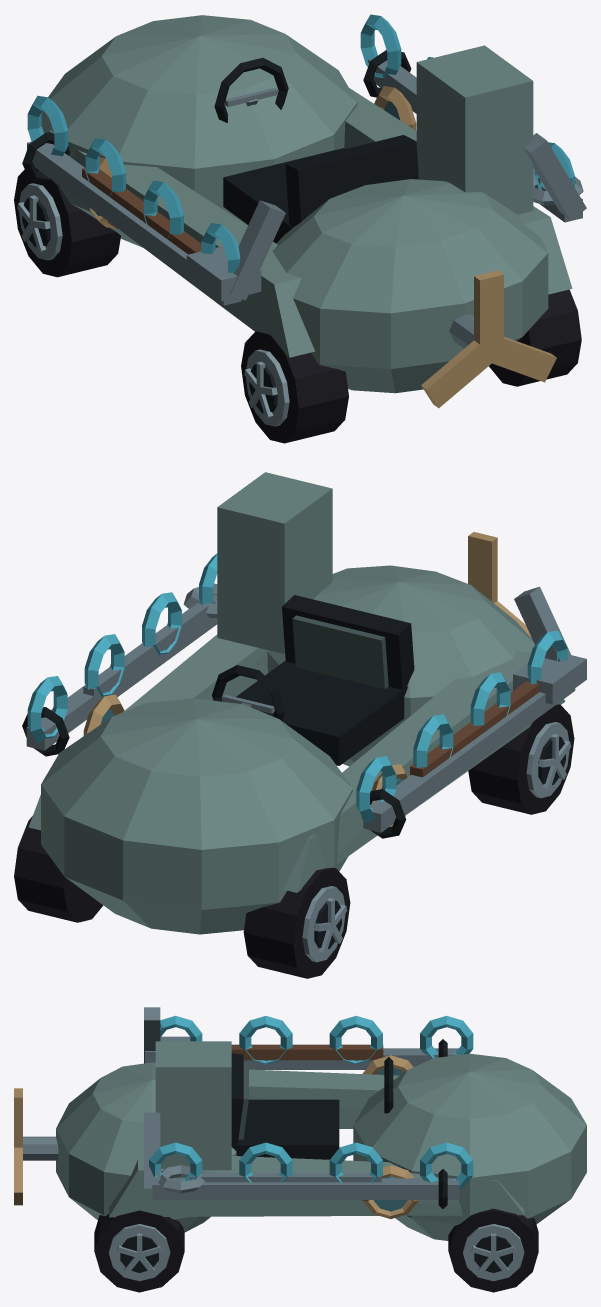
Rendered from kart.glb.
3 renders of one model, top to bottom at view 1: azimuth 30°, elevation 25°; view 2: azimuth 150°, elevation 25°; view 3: azimuth 270°, elevation 25°, orthographic. The views are drawn at different scales.
Visible parts, largest first — view 1: identity-submarine-submarine-rounded-bow-and-stern-propeller, identity-submarine-motif-pipes, identity-submarine-driver-cockpit, wheel-rear-left, identity-submarine-motif-water, wheel-front-left, identity-submarine-motif-tools, wheel-rear-right; view 2: identity-submarine-submarine-rounded-bow-and-stern-propeller, identity-submarine-driver-cockpit, identity-submarine-motif-pipes, identity-submarine-motif-water, wheel-front-left, wheel-rear-left, identity-submarine-motif-tools, wheel-front-right; view 3: identity-submarine-submarine-rounded-bow-and-stern-propeller, identity-submarine-motif-pipes, identity-submarine-motif-water, identity-submarine-driver-cockpit, wheel-rear-right, wheel-front-right, identity-submarine-motif-tools.
Boxes of the visible parts, box(x1,y1,x2,y2) form: identity-submarine-submarine-rounded-bow-and-stern-propeller: box(41, 15, 572, 408); identity-submarine-motif-pipes: box(22, 50, 586, 305); identity-submarine-driver-cockpit: box(214, 57, 418, 243); wheel-rear-left: box(241, 331, 348, 443); identity-submarine-motif-water: box(27, 14, 574, 272); wheel-front-left: box(14, 168, 120, 277); identity-submarine-motif-tools: box(82, 168, 583, 301); wheel-rear-right: box(489, 289, 581, 386); identity-submarine-submarine-rounded-bow-and-stern-propeller: box(28, 472, 565, 934); identity-submarine-driver-cockpit: box(212, 595, 414, 765); identity-submarine-motif-pipes: box(22, 586, 575, 838); identity-submarine-motif-water: box(27, 553, 567, 823); wheel-front-left: box(243, 867, 350, 978); wheel-rear-left: box(468, 704, 574, 814); identity-submarine-motif-tools: box(83, 583, 586, 777); wheel-front-right: box(14, 816, 102, 922); identity-submarine-submarine-rounded-bow-and-stern-propeller: box(14, 1041, 586, 1240); identity-submarine-motif-pipes: box(144, 1007, 459, 1208); identity-submarine-motif-water: box(149, 1015, 473, 1189); identity-submarine-driver-cockpit: box(231, 1053, 393, 1159); wheel-rear-right: box(94, 1210, 184, 1292); wheel-front-right: box(448, 1208, 538, 1292); identity-submarine-motif-tools: box(145, 1036, 383, 1193).
Size of the model in its own units: 1.95 by 1.36 by 3.17.
